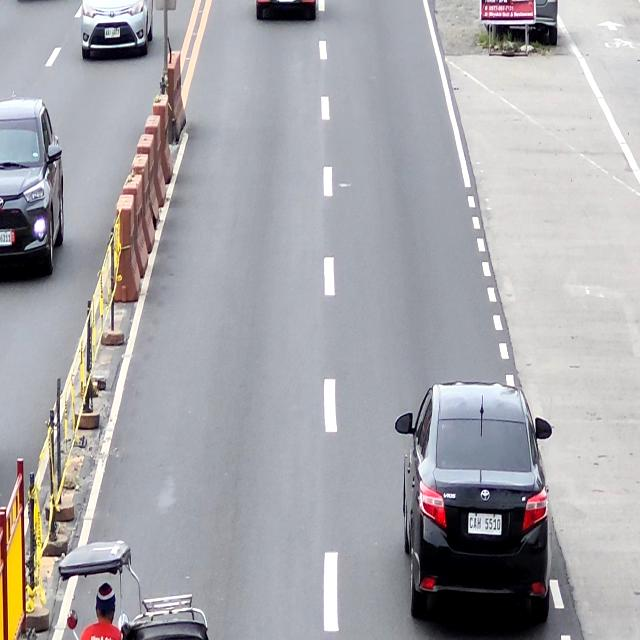Car: (397, 383, 552, 626)
License-Plate: (468, 514, 502, 534)
